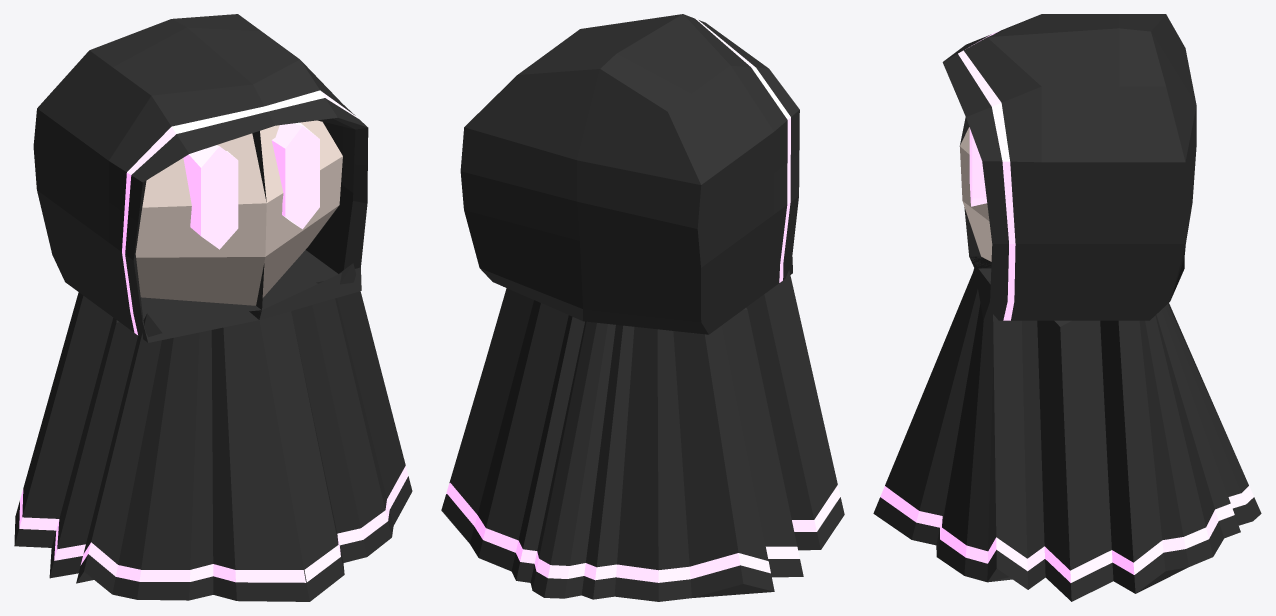
The model's file is Sassy.fbx.
3 views of the same model, side by side, from view 1: azimuth 30°, elevation 25°; view 2: azimuth 150°, elevation 25°; view 3: azimuth 270°, elevation 25° (orthographic).
Visible parts, largest first — view 1: Cube.001, Cube, Cube.003, Cube.002, Cube.004, Cube.005; view 2: Cube.001, Cube, Cube.004, Cube.005; view 3: Cube.001, Cube, Cube.004, Cube.005, Cube.003, Cube.002.
Part boxes in pixels (x1=…): Cube.001: x1=14, y1=263, x2=412, y2=601; Cube: x1=33, y1=14, x2=368, y2=342; Cube.003: x1=135, y1=120, x2=342, y2=305; Cube.002: x1=183, y1=122, x2=319, y2=249; Cube.004: x1=19, y1=466, x2=408, y2=582; Cube.005: x1=122, y1=90, x2=358, y2=334; Cube.001: x1=441, y1=270, x2=844, y2=601; Cube: x1=460, y1=14, x2=799, y2=334; Cube.004: x1=446, y1=483, x2=840, y2=582; Cube.005: x1=696, y1=19, x2=790, y2=282; Cube.001: x1=873, y1=268, x2=1261, y2=601; Cube: x1=942, y1=14, x2=1196, y2=320; Cube.004: x1=880, y1=486, x2=1253, y2=582; Cube.005: x1=958, y1=31, x2=1015, y2=320; Cube.003: x1=960, y1=127, x2=992, y2=261; Cube.002: x1=969, y1=128, x2=987, y2=206.
Bounding box in the file's own units: 281 × 404 × 287.
